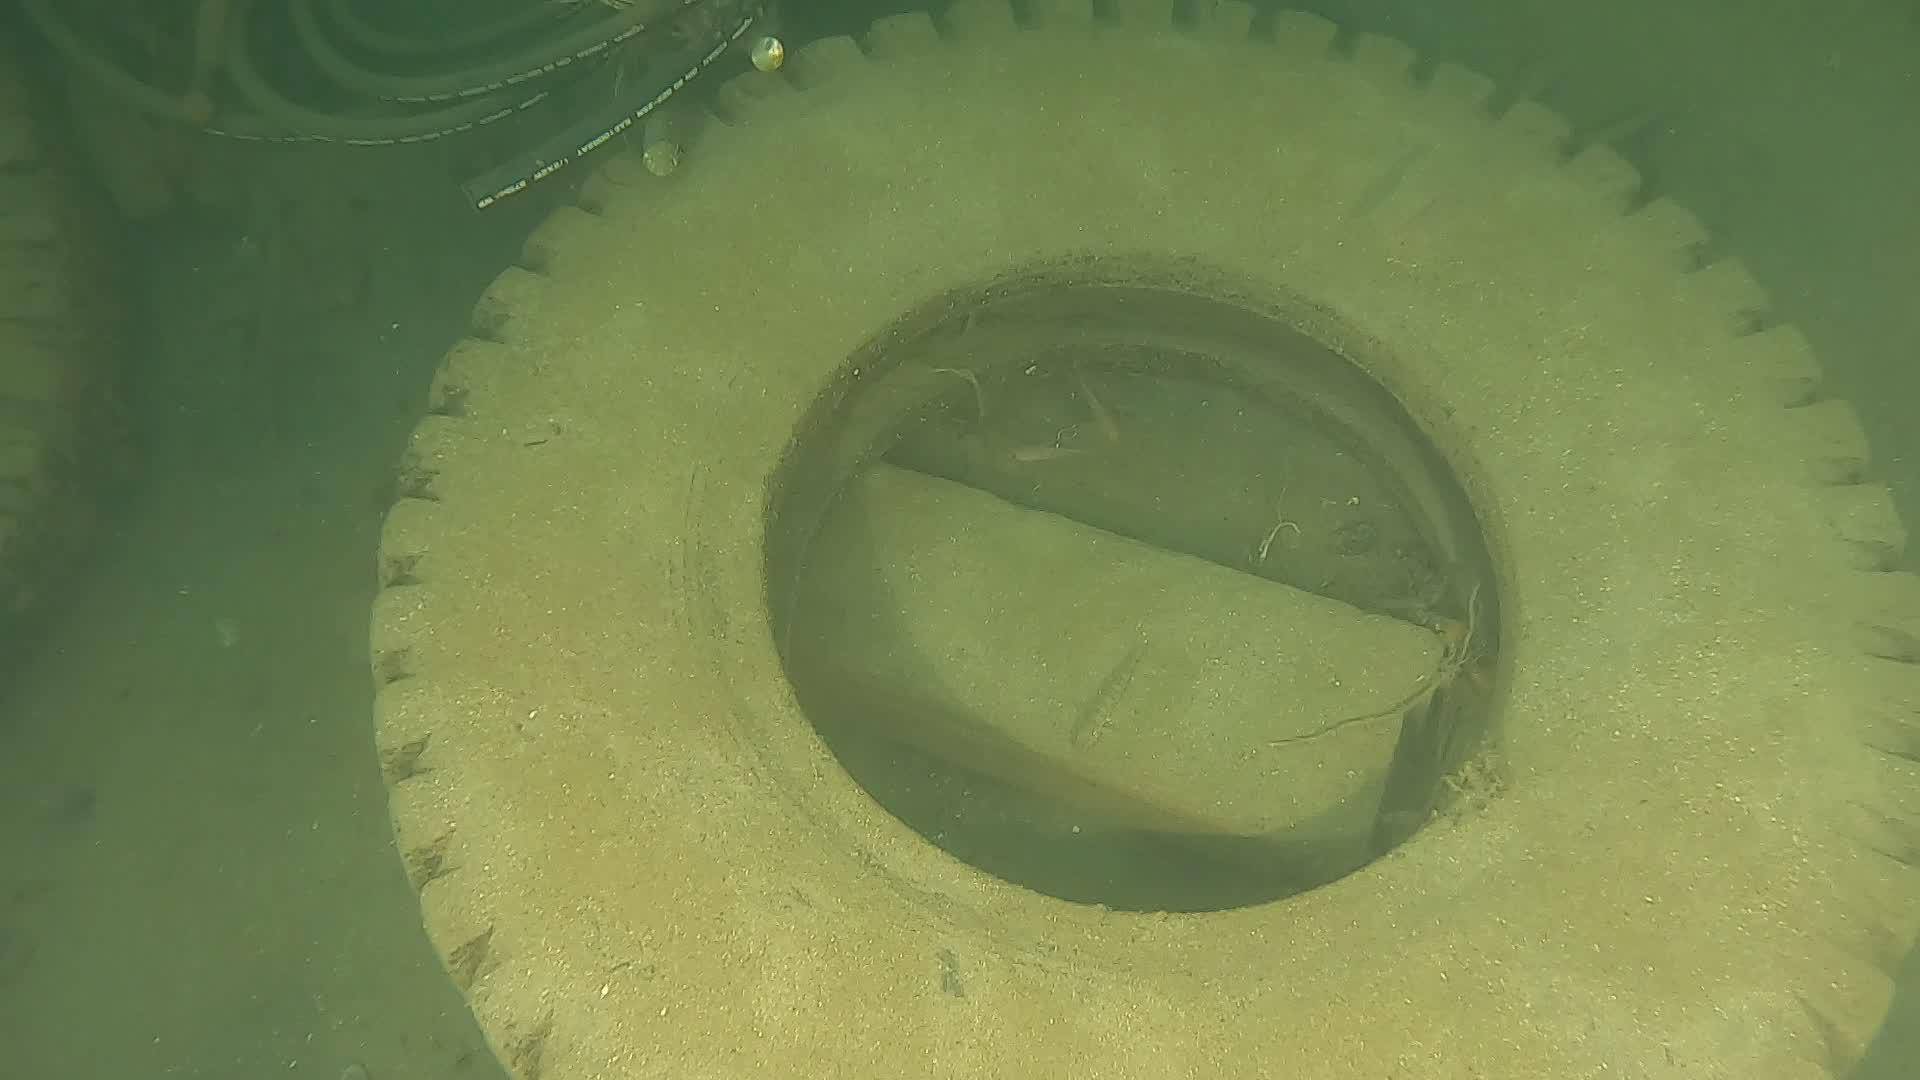tire: (365, 0, 1920, 1080)
